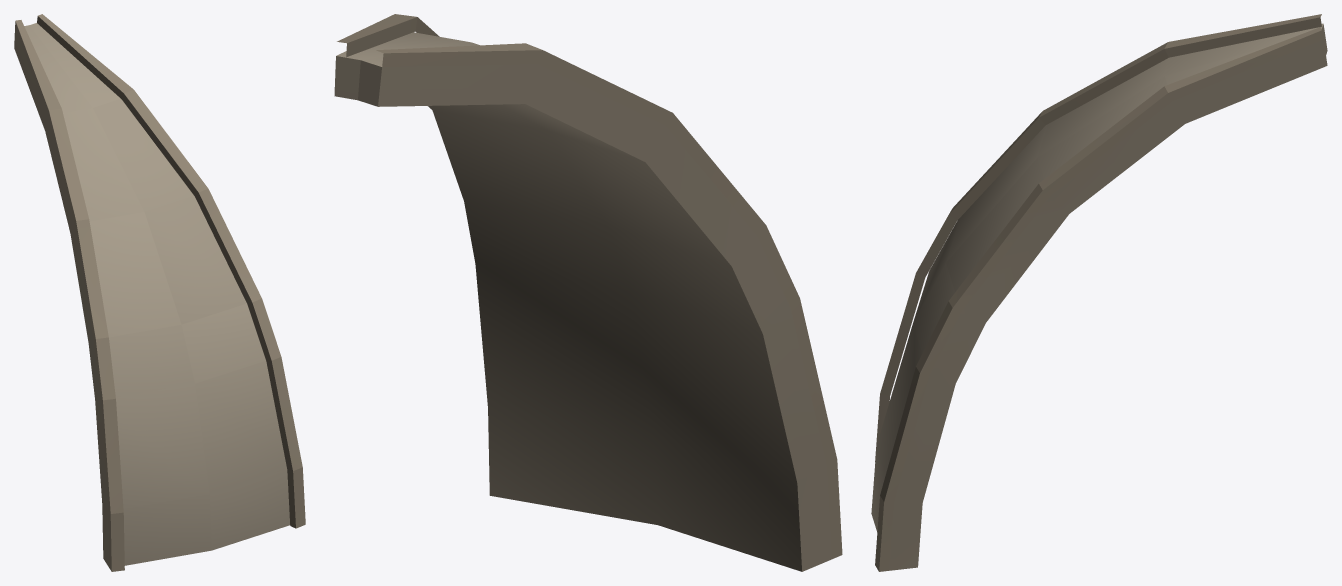
Rendered from dome.panel_12.stone.glb.
3 renders of one model, left to right at view 1: azimuth 30°, elevation 25°; view 2: azimuth 150°, elevation 25°; view 3: azimuth 270°, elevation 25°, orthographic. The views are drawn at different scales.
Parts seen in each view (by area): view 1: dome_panel_12_stone; view 2: dome_panel_12_stone; view 3: dome_panel_12_stone.
Part boxes in pixels (x1=…): dome_panel_12_stone: x1=14, y1=14, x2=305, y2=571; dome_panel_12_stone: x1=334, y1=14, x2=842, y2=571; dome_panel_12_stone: x1=871, y1=14, x2=1327, y2=571.
Size of what is drawn, in the model's own units: 1.85 by 3.63 by 3.06.
